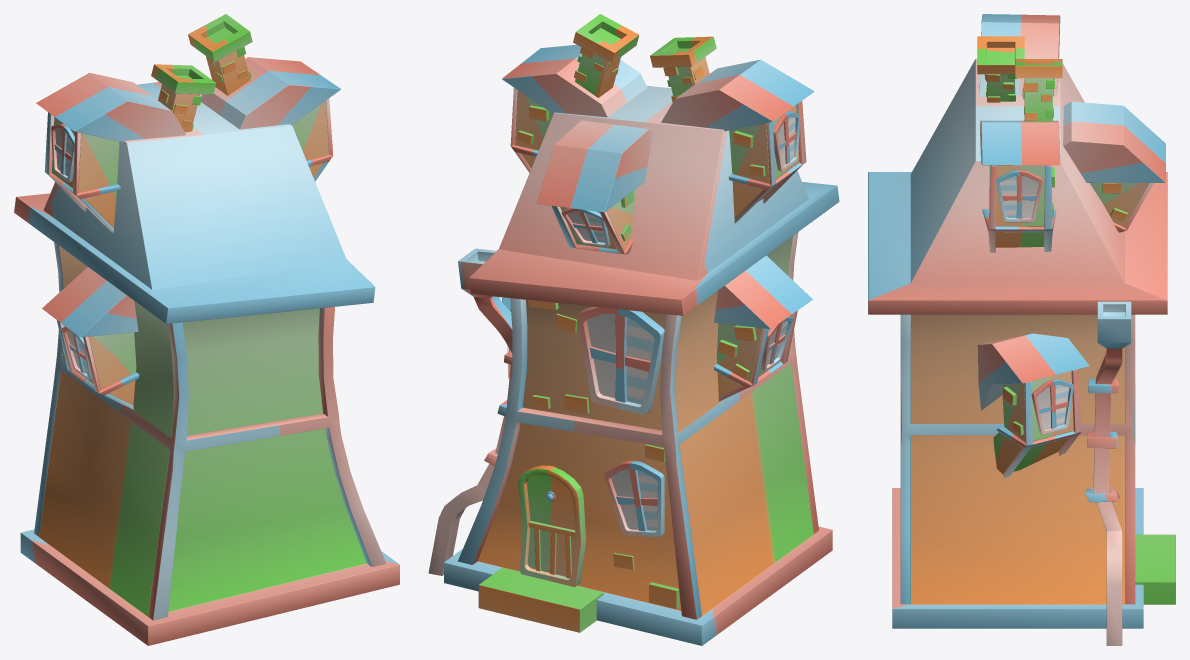
File: HouseB_v2.fbx
3 renders of one model, left to right at view 1: azimuth 30°, elevation 25°; view 2: azimuth 150°, elevation 25°; view 3: azimuth 270°, elevation 25°, orthographic. The views are drawn at different scales.
Visible parts, largest first — view 1: HouseB_v2.; view 2: HouseB_v2.; view 3: HouseB_v2..
Part boxes in pixels (left/top/right/bottom): HouseB_v2.: left=14, top=14, right=399, bottom=645; HouseB_v2.: left=428, top=14, right=839, bottom=645; HouseB_v2.: left=868, top=14, right=1175, bottom=645.
Size of the model in its own units: 741 by 1234 by 655.
